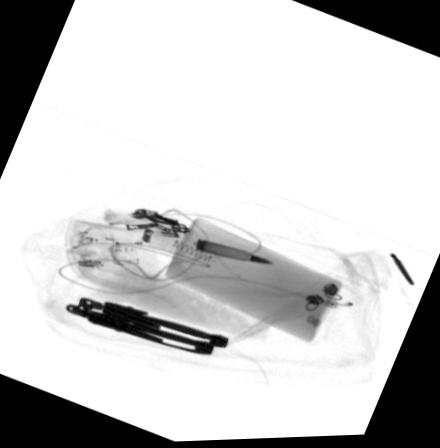Bullet: (193, 238, 271, 265)
HandCuffs: (62, 294, 231, 359)
